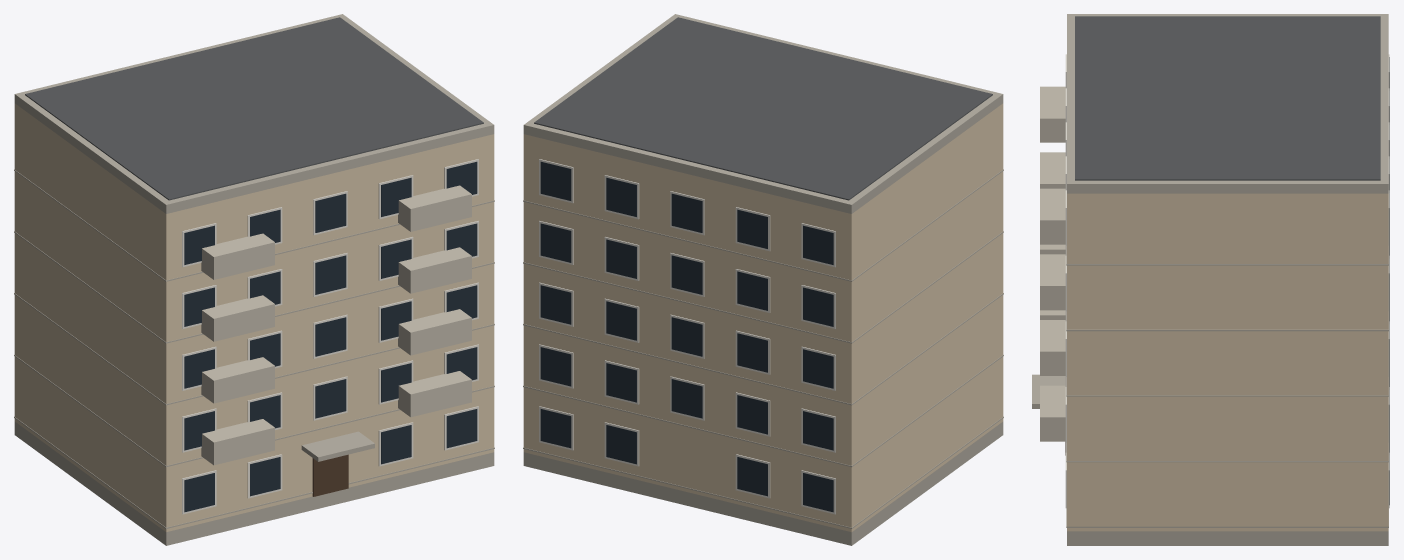
Rendered from khrush_sand.glb.
3 views of the same model, side by side, from view 1: azimuth 30°, elevation 25°; view 2: azimuth 150°, elevation 25°; view 3: azimuth 270°, elevation 25° (orthographic). The views are drawn at different scales.
Visible parts, largest first — view 1: khrush_sand; view 2: khrush_sand; view 3: khrush_sand.
Part boxes in pixels (left/top/right/bottom): khrush_sand: left=14, top=14, right=494, bottom=545; khrush_sand: left=523, top=14, right=1003, bottom=545; khrush_sand: left=1032, top=14, right=1389, bottom=545.
Bounding box in the file's own units: 15.04 × 14.95 × 13.35.
